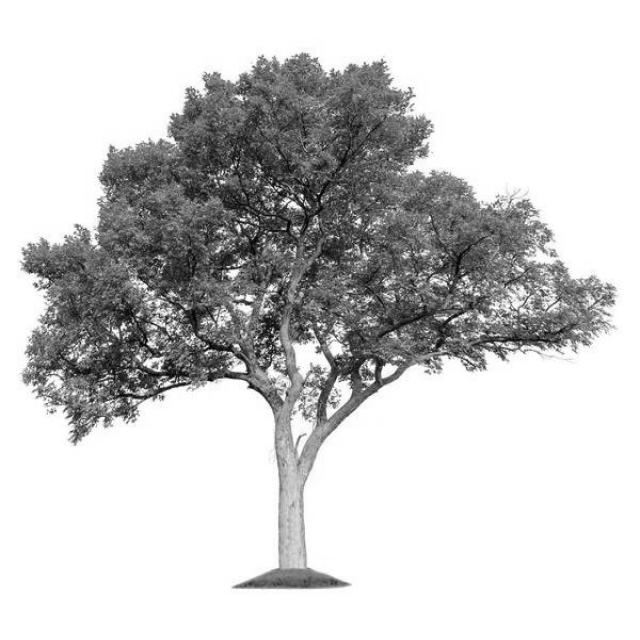Tree: (23, 53, 616, 571)
